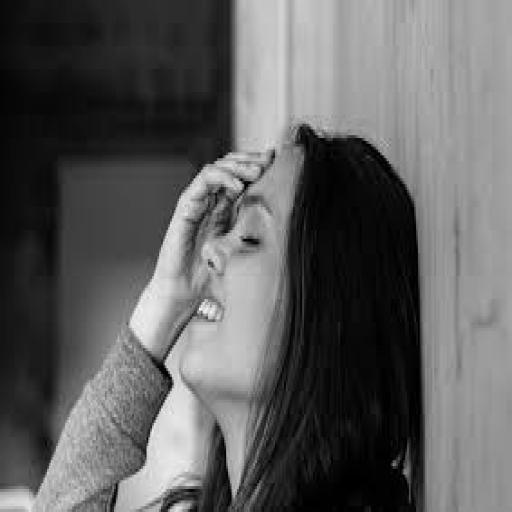laughing: (27, 107, 433, 509)
